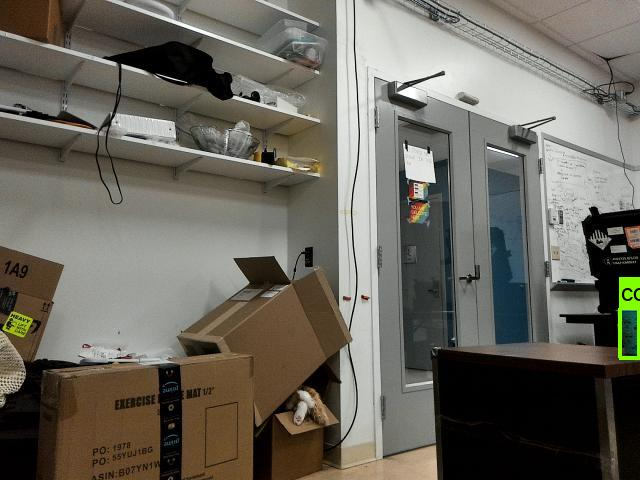coffee_cup: (618, 308, 640, 357)
